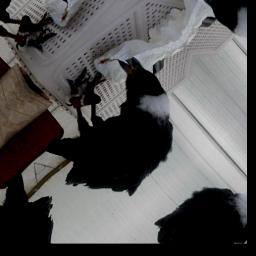Crow: (13, 31, 207, 225)
